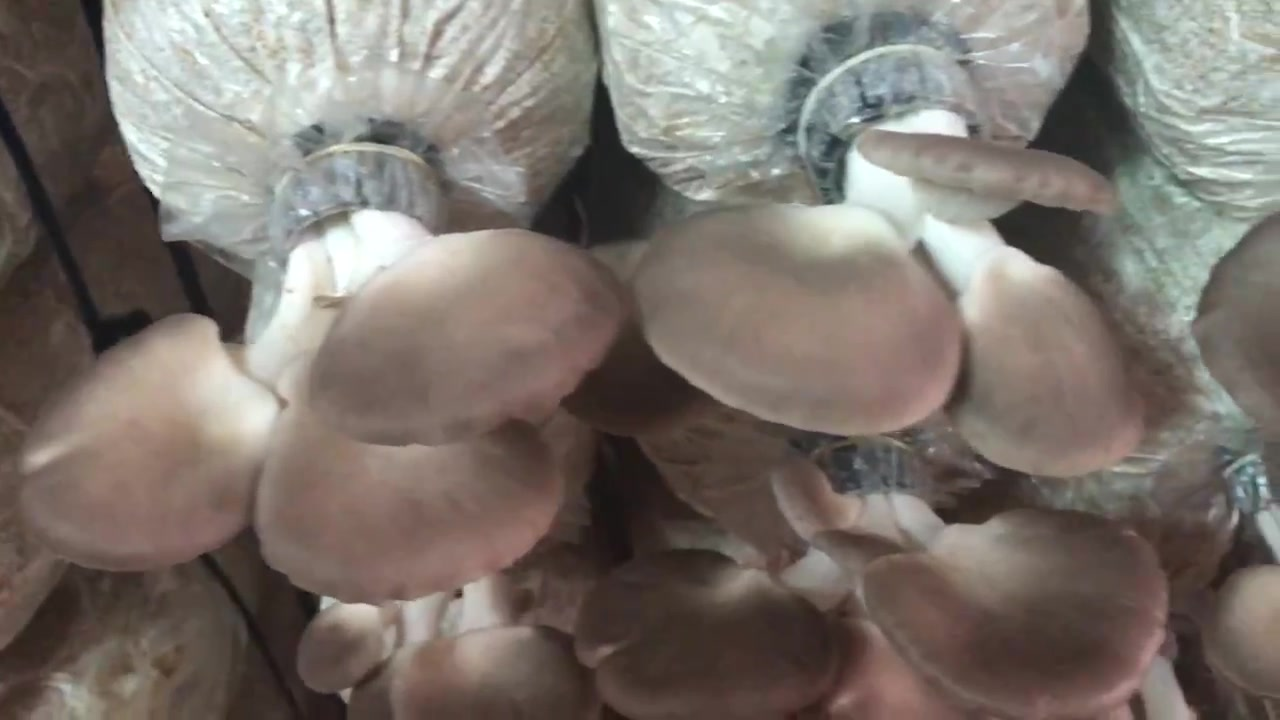nam: (27, 149, 624, 603), (641, 43, 1145, 471), (581, 443, 1160, 713), (300, 564, 602, 717), (1202, 217, 1280, 422), (1205, 563, 1280, 695)
